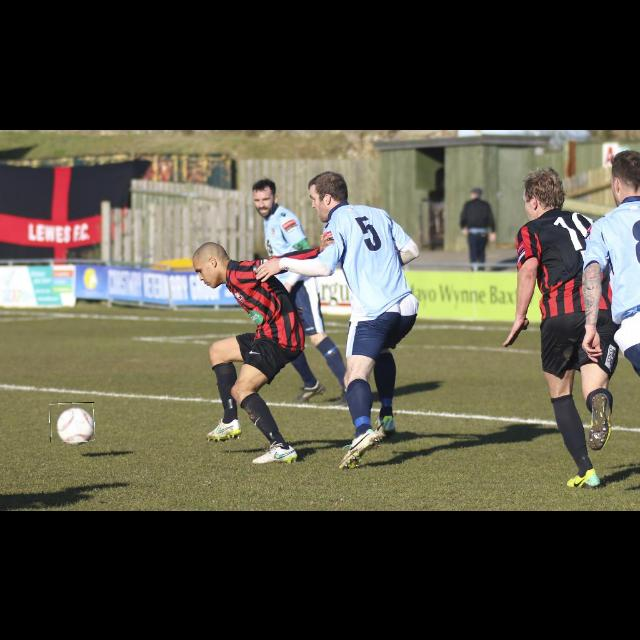Football: (50, 402, 94, 442)
